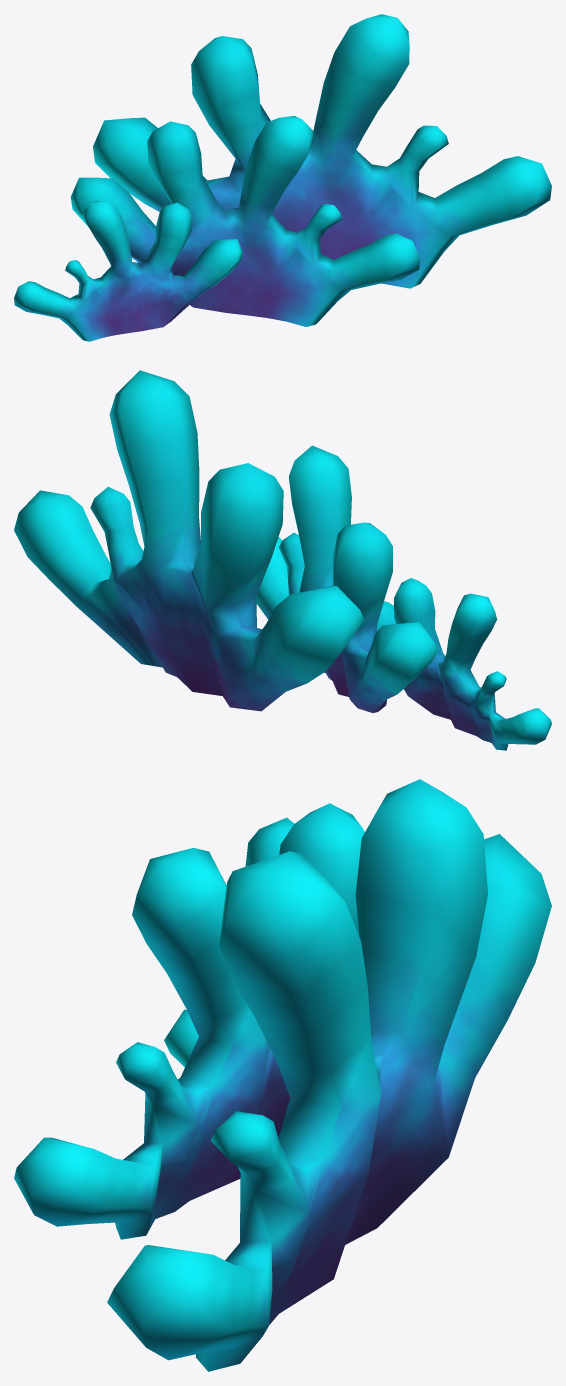
Rendered from Cartoon Seaweed_13-2-33.fbx.
3 renders of one model, top to bottom at view 1: azimuth 30°, elevation 25°; view 2: azimuth 150°, elevation 25°; view 3: azimuth 270°, elevation 25°, orthographic. The views are drawn at different scales.
Parts seen in each view (by area): view 1: Cartoon Seaweed_13.2.33; view 2: Cartoon Seaweed_13.2.33; view 3: Cartoon Seaweed_13.2.33.
Boxes of the visible parts, bbox=[...] form: Cartoon Seaweed_13.2.33: bbox=[14, 14, 551, 341]; Cartoon Seaweed_13.2.33: bbox=[14, 370, 551, 750]; Cartoon Seaweed_13.2.33: bbox=[14, 779, 551, 1371].
Size of the model in its own units: 20.56 by 10.38 by 10.32.
1 material, 1 textured.
